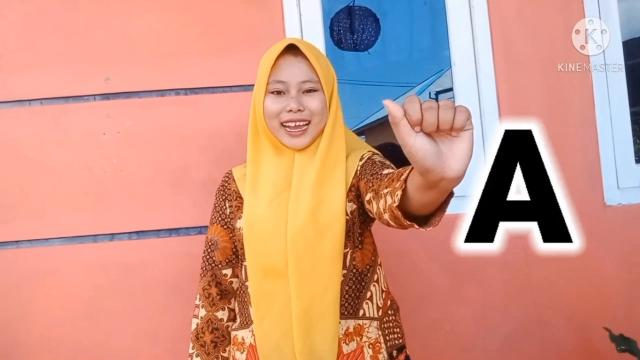A: (382, 96, 476, 185)
